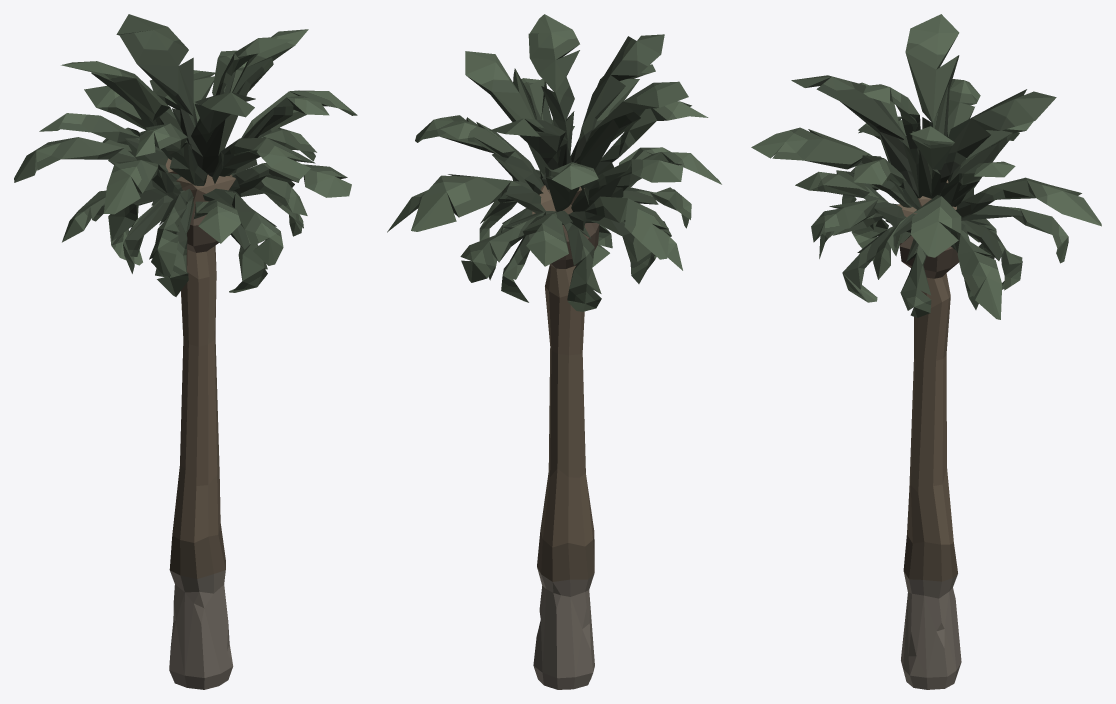
File: SM_Env_Tree_Large_02.fbx
The picture shows the model from 3 angles, left to right: view 1: azimuth 30°, elevation 25°; view 2: azimuth 150°, elevation 25°; view 3: azimuth 270°, elevation 25°; orthographic projection. The views are drawn at different scales.
Visible parts, largest first — view 1: SM_Env_Tree_Large_02; view 2: SM_Env_Tree_Large_02; view 3: SM_Env_Tree_Large_02.
Boxes of the visible parts, x1=… form: SM_Env_Tree_Large_02: x1=14, y1=14, x2=357, y2=689; SM_Env_Tree_Large_02: x1=387, y1=14, x2=721, y2=689; SM_Env_Tree_Large_02: x1=751, y1=14, x2=1101, y2=689.
Size of the model in its own units: 630 by 1308 by 674.
